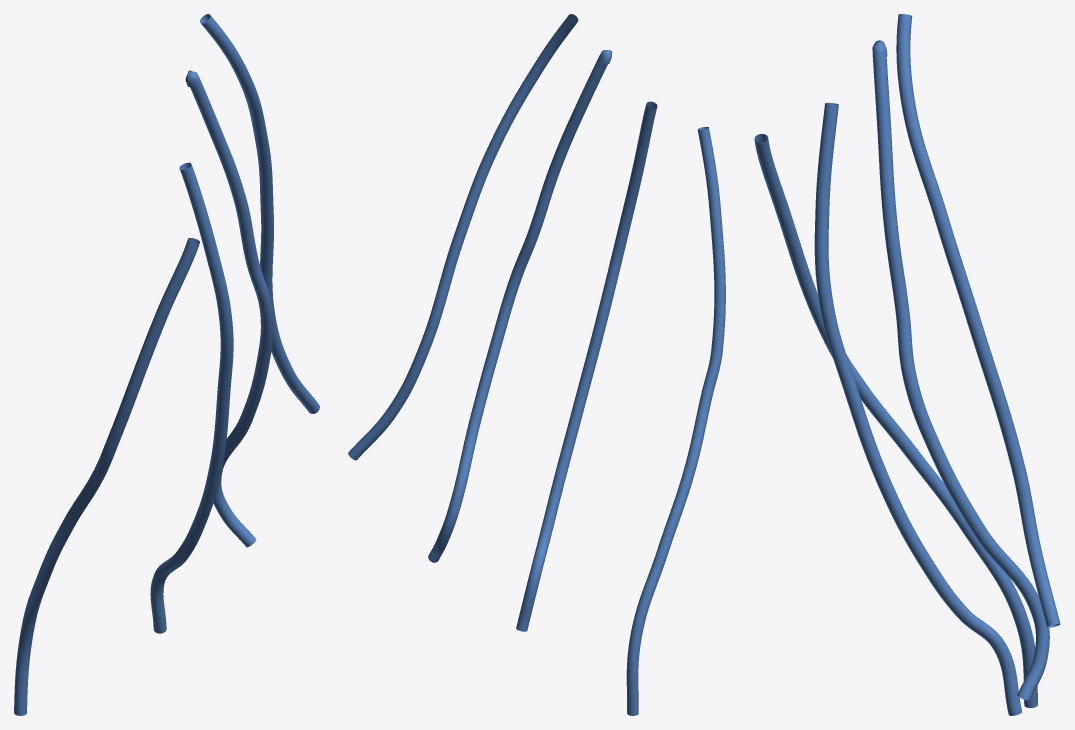
3 views of the same model, side by side, from view 1: azimuth 30°, elevation 25°; view 2: azimuth 150°, elevation 25°; view 3: azimuth 270°, elevation 25° (orthographic). The views are drawn at different scales.
Visible parts, largest first — view 1: 左侧跖足底静脉; view 2: 左侧跖足底静脉; view 3: 左侧跖足底静脉.
Boxes of the visible parts, left/top/right/bottom form: 左侧跖足底静脉: left=14, top=14, right=319, bottom=715; 左侧跖足底静脉: left=348, top=14, right=725, bottom=715; 左侧跖足底静脉: left=754, top=14, right=1060, bottom=715.
Bounding box in the file's own units: 0.059 × 0.1243 × 0.0454.
